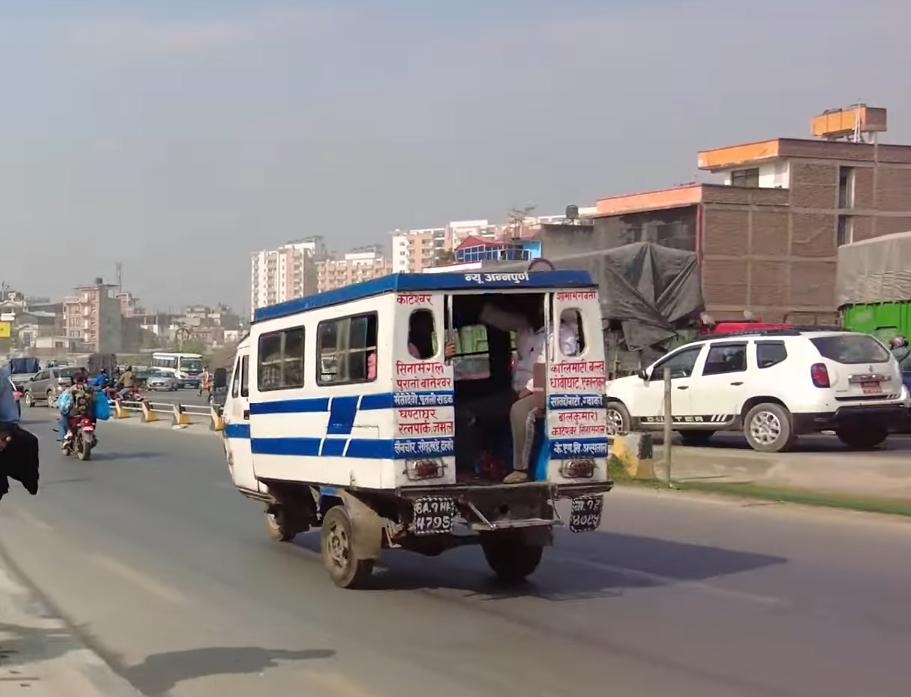bike: (53, 399, 100, 466)
bus: (148, 349, 207, 382)
car: (610, 325, 906, 453)
tempo: (222, 261, 618, 605)
